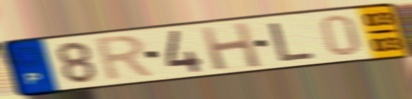0: (317, 13, 364, 58)
4: (164, 29, 204, 75)
8: (54, 40, 99, 85)
H: (198, 20, 265, 72)
L: (267, 20, 318, 63)
R: (93, 33, 158, 84)
